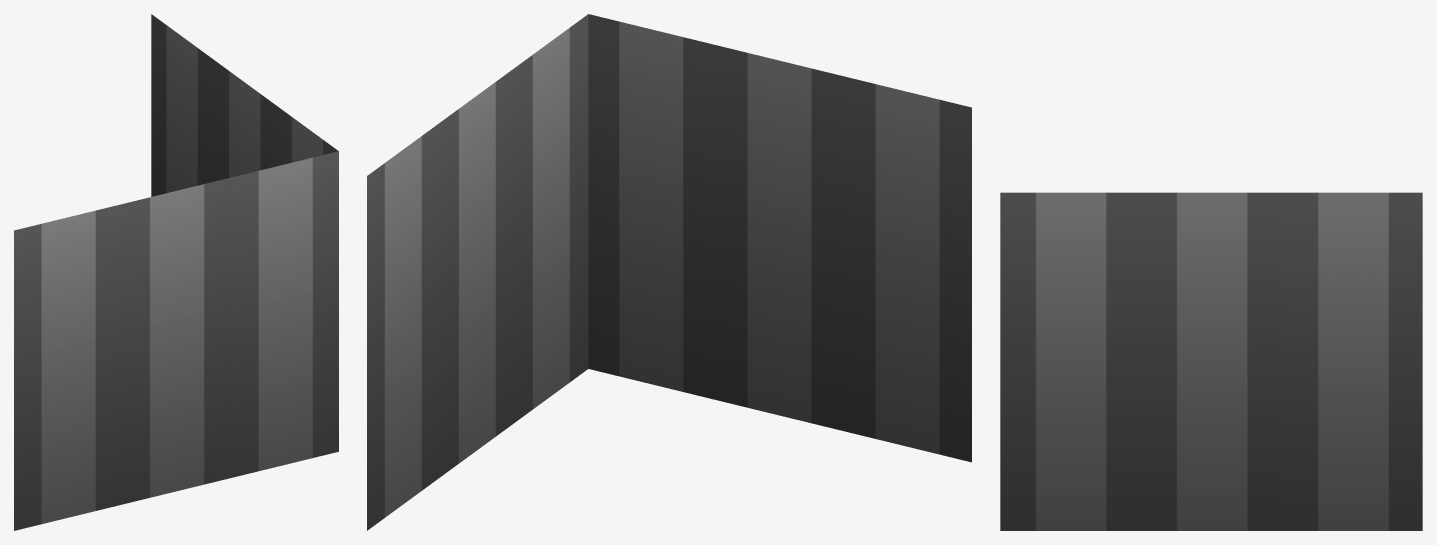
File: Wall_01_Ext_Long.fbx
3 renders of one model, left to right at view 1: azimuth 30°, elevation 25°; view 2: azimuth 150°, elevation 25°; view 3: azimuth 270°, elevation 25°, orthographic. The views are drawn at different scales.
Parts seen in each view (by area): view 1: Wall_01_Ext_Long; view 2: Wall_01_Ext_Long; view 3: Wall_01_Ext_Long.
Boxes of the visible parts, x1,y1,x2,y2 form: Wall_01_Ext_Long: (14, 14, 338, 530); Wall_01_Ext_Long: (367, 14, 971, 530); Wall_01_Ext_Long: (1000, 192, 1422, 530).
Bounding box in the file's own units: 3 × 2.65 × 3.
